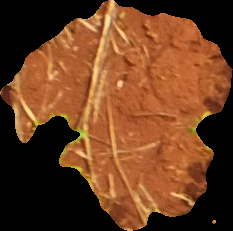soil: (1, 1, 232, 230)
